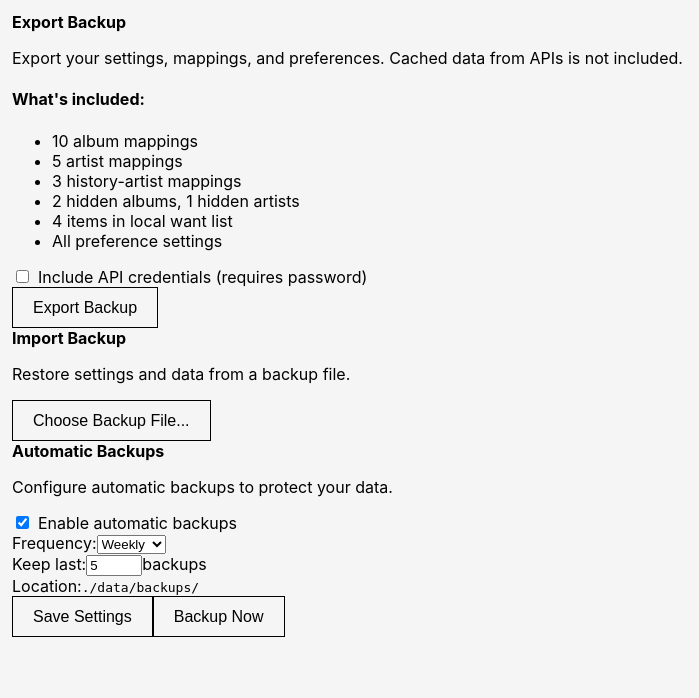
Test: SettingsBackupSection › shows password fields when include credentials is checked
The image size is (699, 698).
Click the checkbox labelled "Include API credentials (requires password)".
click(22, 276)  # box x1=16 y1=270 x2=29 y2=283
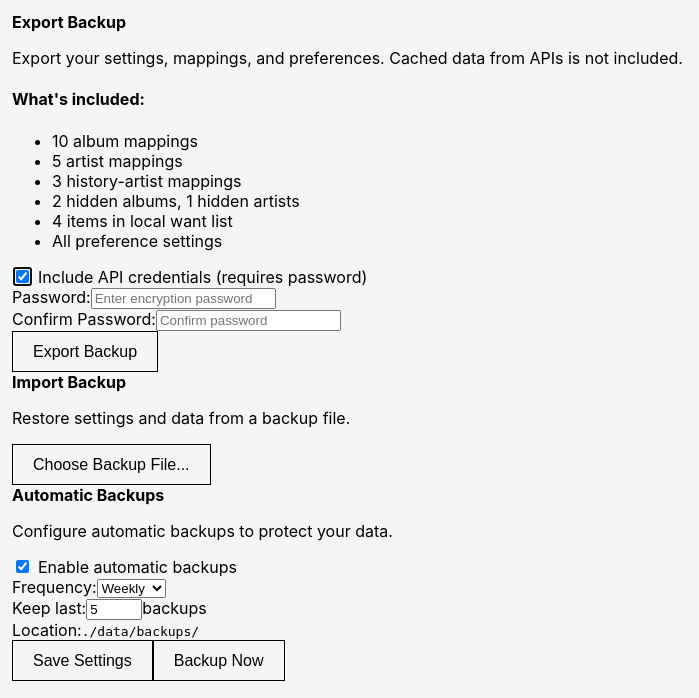
Check: the password field with placeholder "Enter encryption password" is shown, box x1=91 y1=288 x2=276 y2=308
Check: the password field with placeholder "Confirm password" is shown, box x1=156 y1=310 x2=341 y2=330
